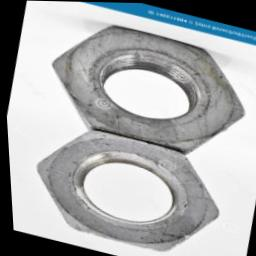Non-corroded Nut: (50, 24, 244, 152), (34, 131, 216, 250)
